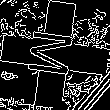M_E: (27, 28, 83, 82)
